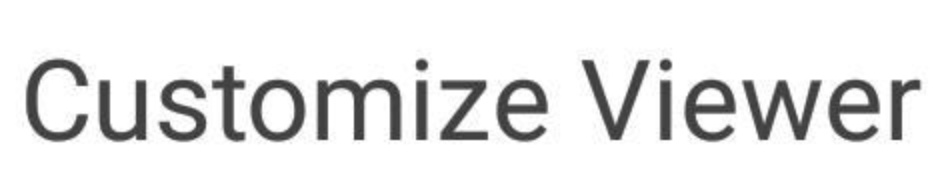TextView: (1, 1, 941, 171)
